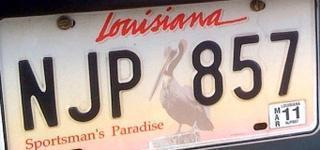placa de veiculo: (8, 15, 297, 140)
